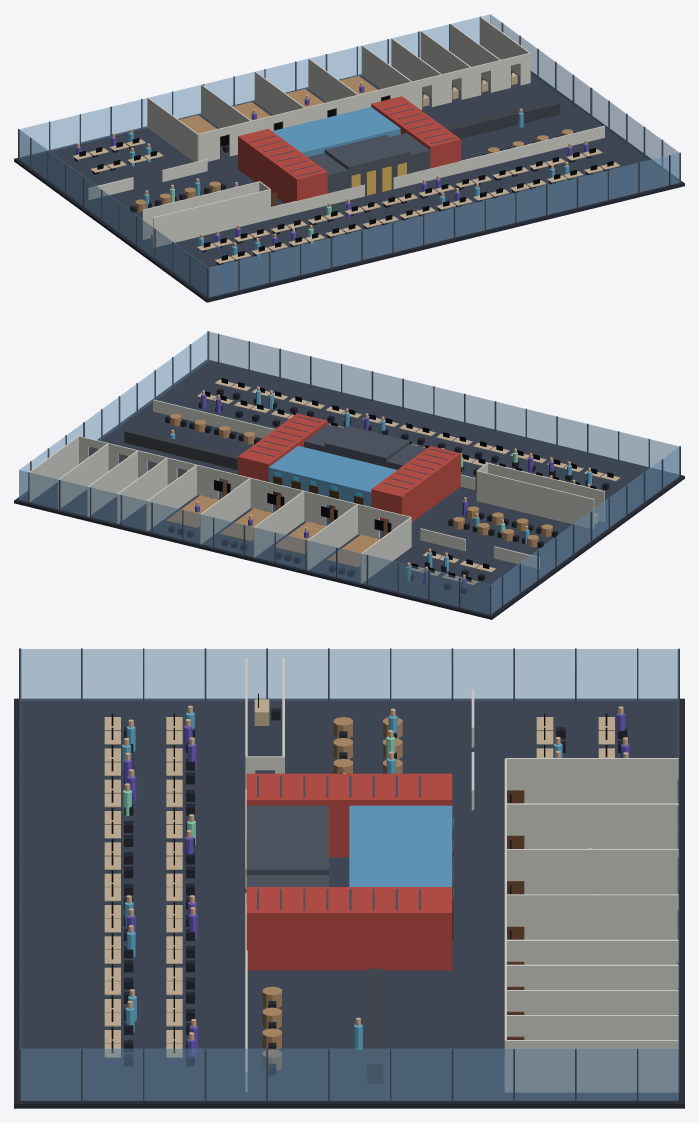
3 renders of one model, top to bottom at view 1: azimuth 30°, elevation 25°; view 2: azimuth 150°, elevation 25°; view 3: azimuth 270°, elevation 25°, orthographic. The views are drawn at different scales.
Visible parts, largest first — view 1: L24_floor_carpet, L24_glass, L24_wall, L24_core, L24_stair, L24_desk, L24_slab, L24_wash, L24_table, L24_screen, L24_counter, L24_chair (+4 smaller); view 2: L24_glass, L24_floor_carpet, L24_wall, L24_core, L24_stair, L24_slab, L24_table, L24_wash, L24_chair, L24_desk, L24_screen, L24_counter (+3 smaller); view 3: L24_floor_carpet, L24_glass, L24_wall, L24_stair, L24_core, L24_desk, L24_slab, L24_wash, L24_chair, L24_table, L24_counter, L24_role_manager (+4 smaller).
Boxes of the visible parts, <box> form: L24_floor_carpet: <box>19,70,679,297</box>; L24_glass: <box>19,14,679,296</box>; L24_wall: <box>88,17,604,247</box>; L24_core: <box>18,16,680,298</box>; L24_stair: <box>238,96,460,203</box>; L24_desk: <box>72,73,620,263</box>; L24_slab: <box>14,71,684,302</box>; L24_wash: <box>272,107,400,156</box>; L24_table: <box>135,76,573,211</box>; L24_screen: <box>79,71,613,260</box>; L24_counter: <box>444,100,559,138</box>; L24_chair: <box>74,78,609,265</box>; L24_glass: <box>19,331,679,614</box>; L24_floor_carpet: <box>19,361,679,614</box>; L24_wall: <box>28,399,604,583</box>; L24_core: <box>28,331,680,615</box>; L24_stair: <box>238,413,460,522</box>; L24_slab: <box>14,360,684,619</box>; L24_table: <box>166,414,552,567</box>; L24_wash: <box>268,445,396,507</box>; L24_chair: <box>165,388,609,593</box>; L24_desk: <box>197,379,620,585</box>; L24_screen: <box>205,378,613,581</box>; L24_counter: <box>124,428,239,469</box>; L24_floor_carpet: <box>21,700,678,1101</box>; L24_glass: <box>20,649,678,1100</box>; L24_wall: <box>245,657,678,1092</box>; L24_stair: <box>246,773,452,970</box>; L24_core: <box>19,648,679,1101</box>; L24_desk: <box>104,699,614,1057</box>; L24_slab: <box>14,698,684,1108</box>; L24_wash: <box>349,805,452,886</box>; L24_chair: <box>124,708,627,1075</box>; L24_table: <box>262,717,402,1070</box>; L24_counter: <box>367,968,383,1083</box>; L24_role_manager: <box>123,713,629,1063</box>.
Bounding box in the file's own units: 46.6 × 3.37 × 32.6.
